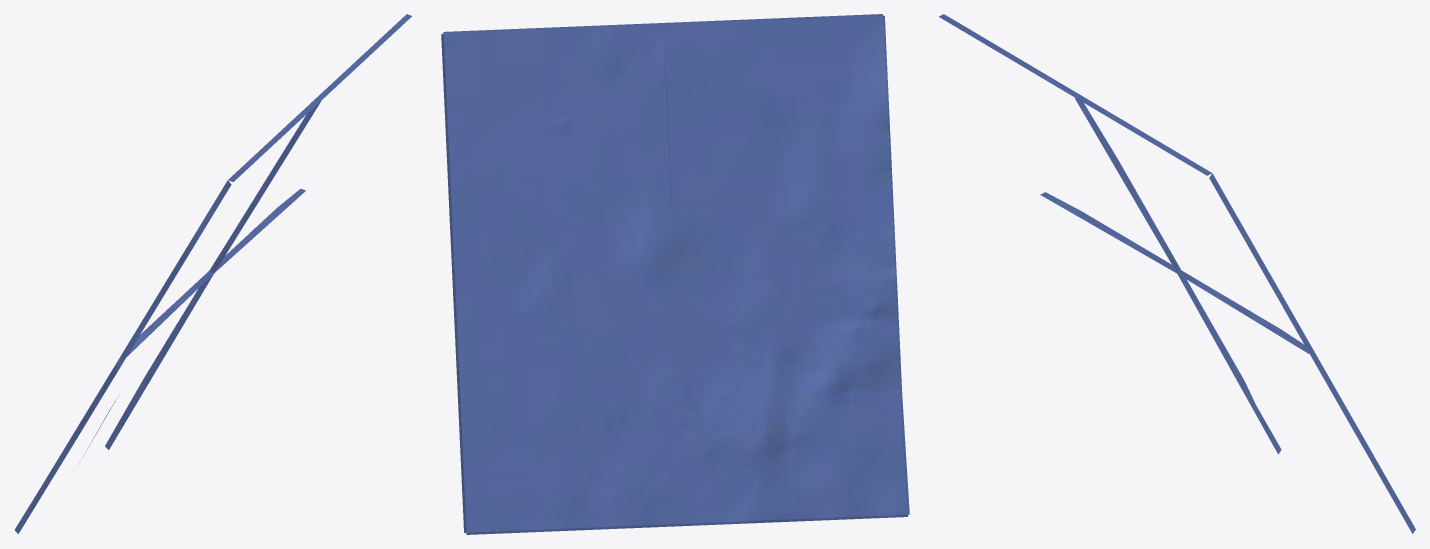
3 views of the same model, side by side, from view 1: azimuth 30°, elevation 25°; view 2: azimuth 150°, elevation 25°; view 3: azimuth 270°, elevation 25° (orthographic). The views are drawn at different scales.
Size of the model in its own units: 78918 by 69532 by 71369.
Materials: 1 (1 with a texture image).
